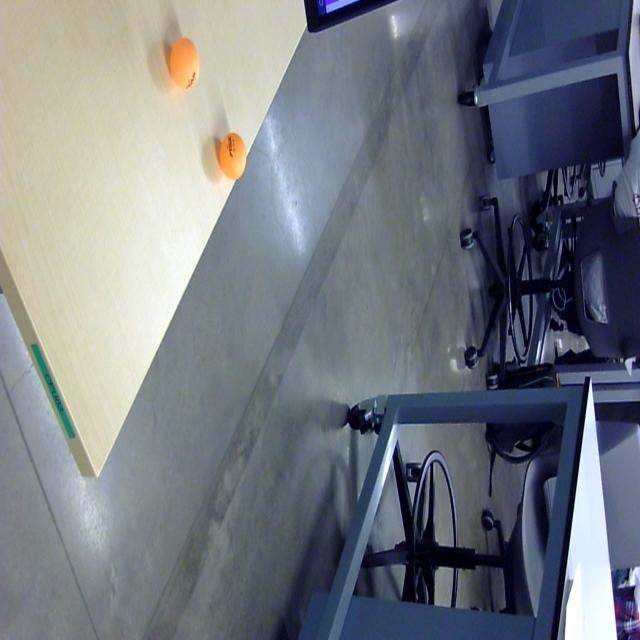ball: (166, 36, 200, 91), (216, 129, 248, 185)
